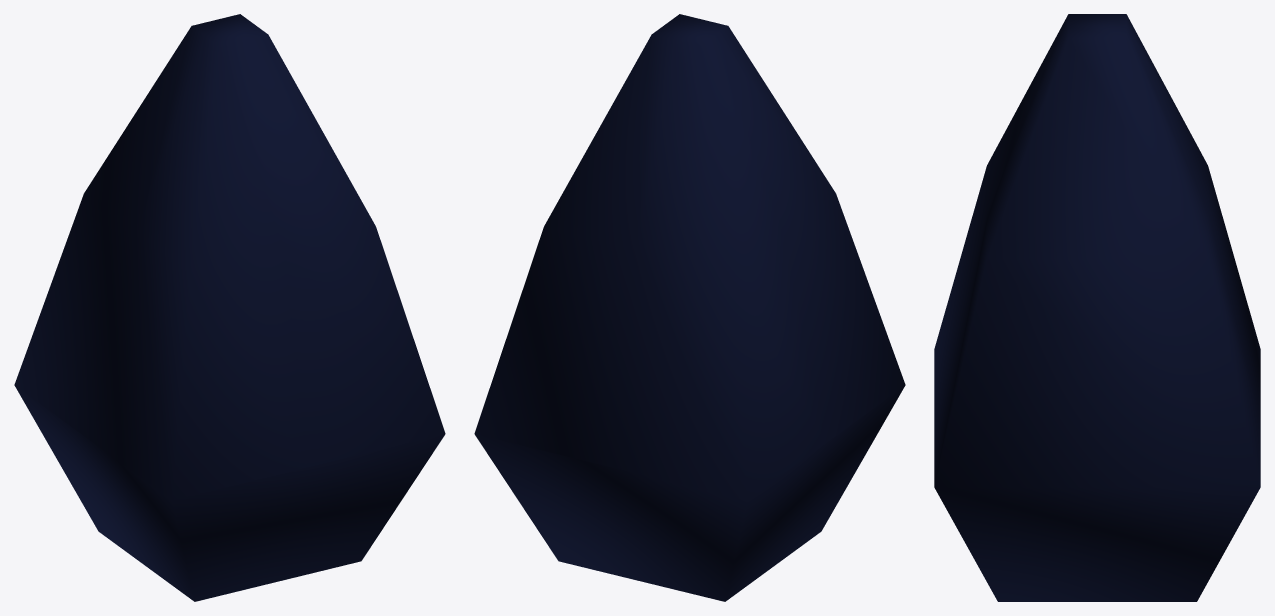
Rendered from raindrop.obj.
3 renders of one model, left to right at view 1: azimuth 30°, elevation 25°; view 2: azimuth 150°, elevation 25°; view 3: azimuth 270°, elevation 25°, orthographic. The views are drawn at different scales.
Visible parts, largest first — view 1: Cube_Cube.003; view 2: Cube_Cube.003; view 3: Cube_Cube.003.
Boxes of the visible parts, x1=… form: Cube_Cube.003: x1=14, y1=14, x2=445, y2=601; Cube_Cube.003: x1=474, y1=14, x2=905, y2=601; Cube_Cube.003: x1=934, y1=14, x2=1260, y2=601.
Bounding box in the file's own units: 1.97 × 3.55 × 1.97.
